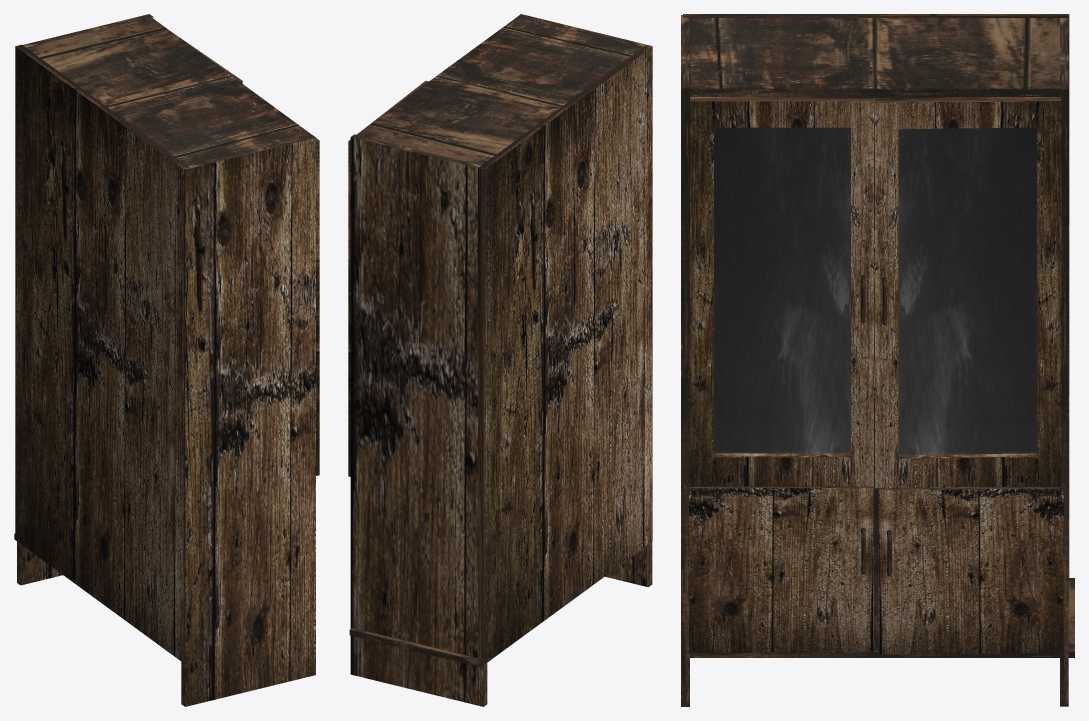
3 views of the same model, side by side, from view 1: azimuth 30°, elevation 25°; view 2: azimuth 150°, elevation 25°; view 3: azimuth 270°, elevation 25° (orthographic). The views are drawn at different scales.
Parts seen in each view (by area): view 1: CupBoard Body, Upper_Left_Door; view 2: CupBoard Body, Upper_Right_Door; view 3: Upper_Right_Door, Upper_Left_Door, CupBoard Body, Lower_Right_Door, Lower_Left_Door.
Part boxes in pixels (left/top/right/bottom): CupBoard Body: left=14, top=14, right=315, bottom=706; Upper_Left_Door: left=316, top=138, right=319, bottom=475; CupBoard Body: left=349, top=14, right=652, bottom=706; Upper_Right_Door: left=348, top=81, right=428, bottom=476; Upper_Right_Door: left=875, top=97, right=1061, bottom=488; Upper_Left_Door: left=690, top=97, right=873, bottom=486; CupBoard Body: left=681, top=14, right=1074, bottom=706; Lower_Right_Door: left=878, top=487, right=1063, bottom=654; Lower_Left_Door: left=689, top=487, right=873, bottom=652.
Size of the model in its own units: 2.69 by 8.76 by 5.05.
2 materials, 2 textured.
